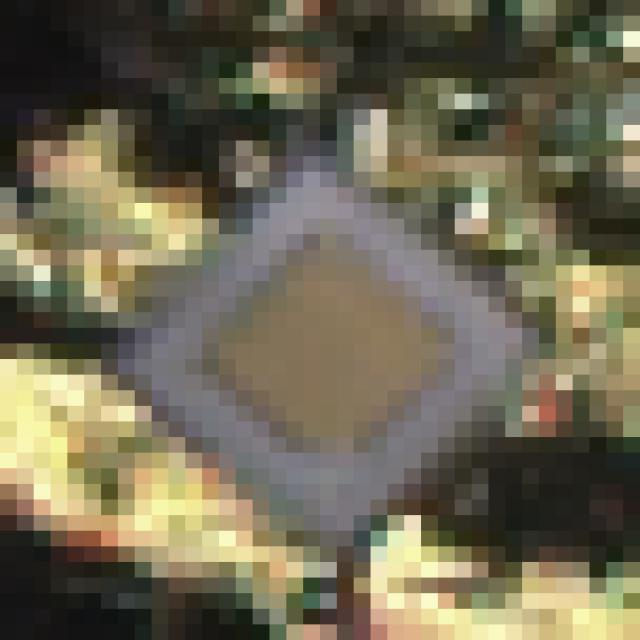Main Road: (85, 95, 557, 563)
